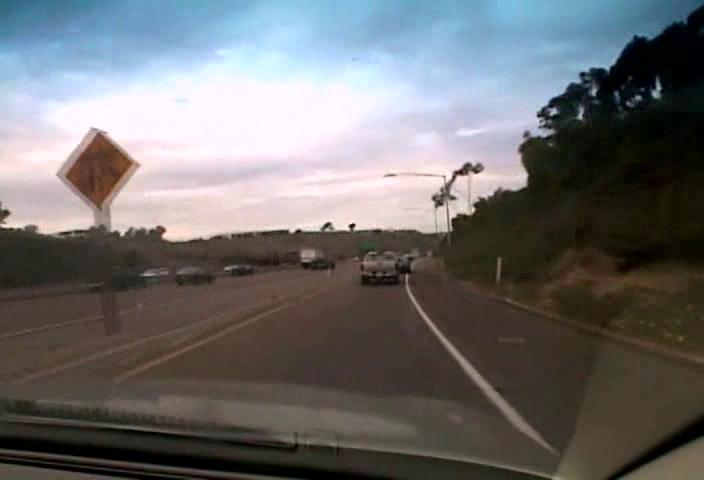addedLane: (63, 132, 133, 207)
